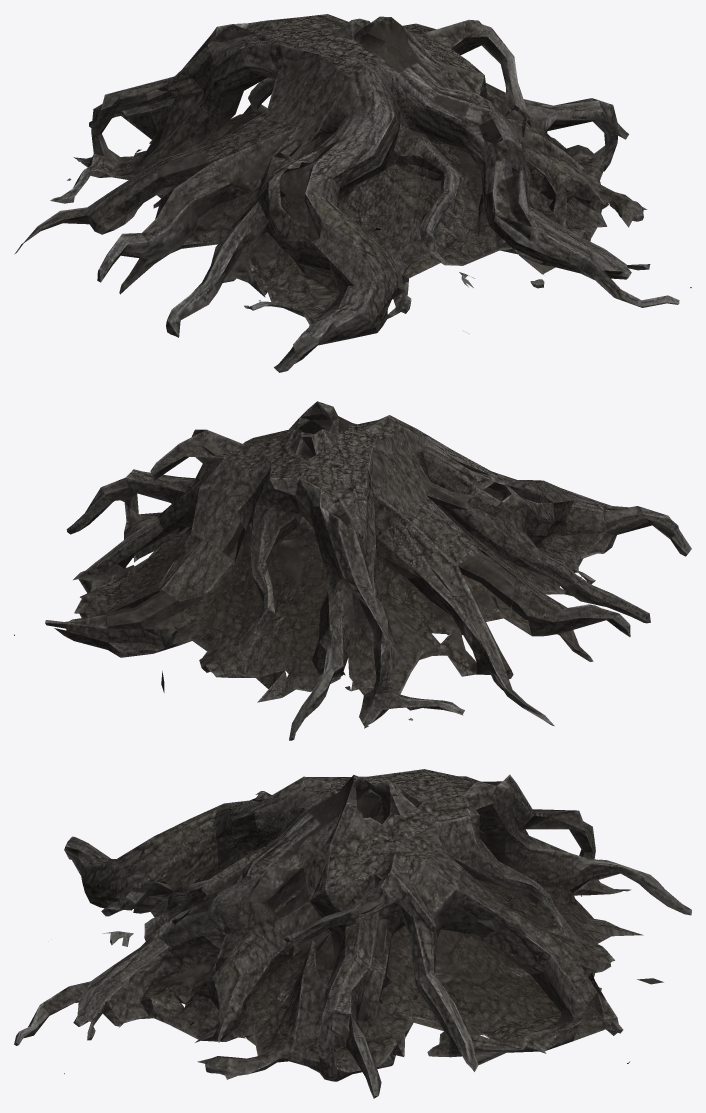
3 renders of one model, top to bottom at view 1: azimuth 30°, elevation 25°; view 2: azimuth 150°, elevation 25°; view 3: azimuth 270°, elevation 25°, orthographic. The views are drawn at different scales.
Bounding box in the file's own units: 1.65 × 0.5918 × 1.68.
Materials: 1 (1 with a texture image).
